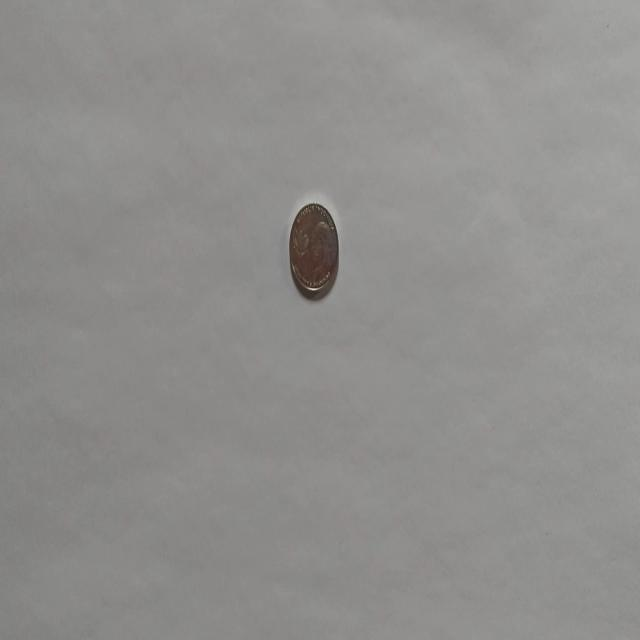lima ratus rupiah: (288, 200, 340, 300)
